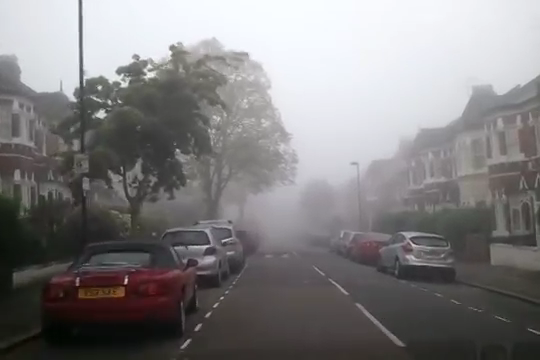car: (37, 241, 201, 342), (154, 226, 231, 288), (376, 229, 457, 285), (187, 218, 244, 275), (349, 231, 400, 266), (326, 227, 363, 256)
